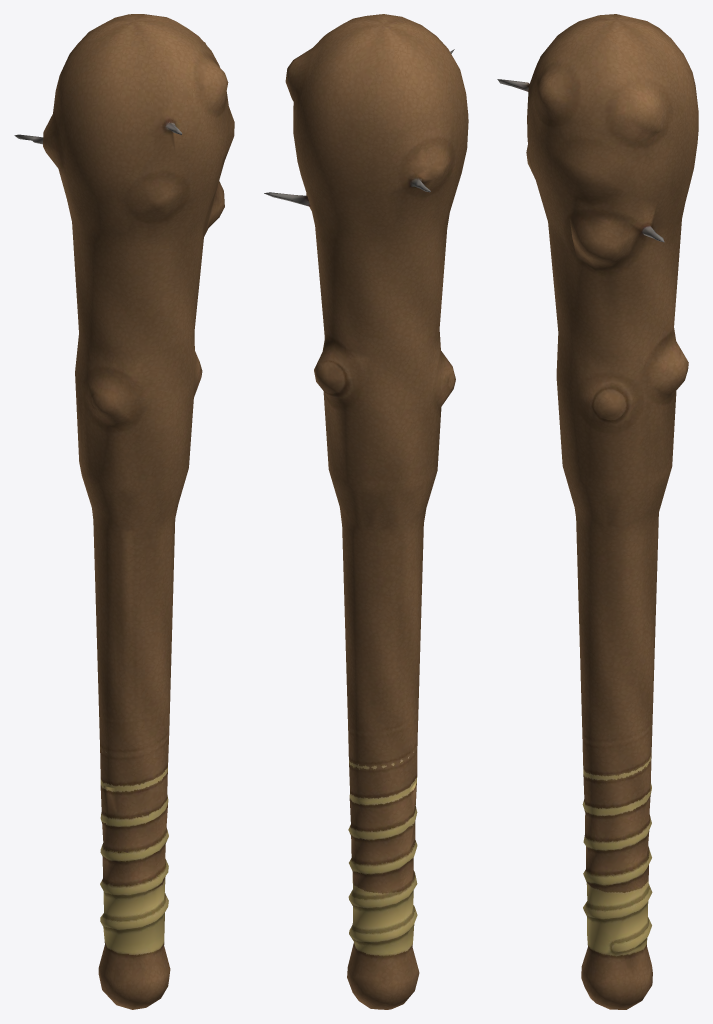
Rendered from weapon_club.glb.
The picture shows the model from 3 angles, left to right: view 1: azimuth 30°, elevation 25°; view 2: azimuth 150°, elevation 25°; view 3: azimuth 270°, elevation 25°; orthographic projection.
Visible parts, largest first — view 1: weapon_club; view 2: weapon_club; view 3: weapon_club.
Boxes of the visible parts, x1=… form: weapon_club: x1=14, y1=14, x2=234, y2=1009; weapon_club: x1=264, y1=14, x2=468, y2=1009; weapon_club: x1=497, y1=14, x2=698, y2=1009.
Size of the model in its own units: 0.1572 by 0.8191 by 0.1515.
1 material, 1 textured.
